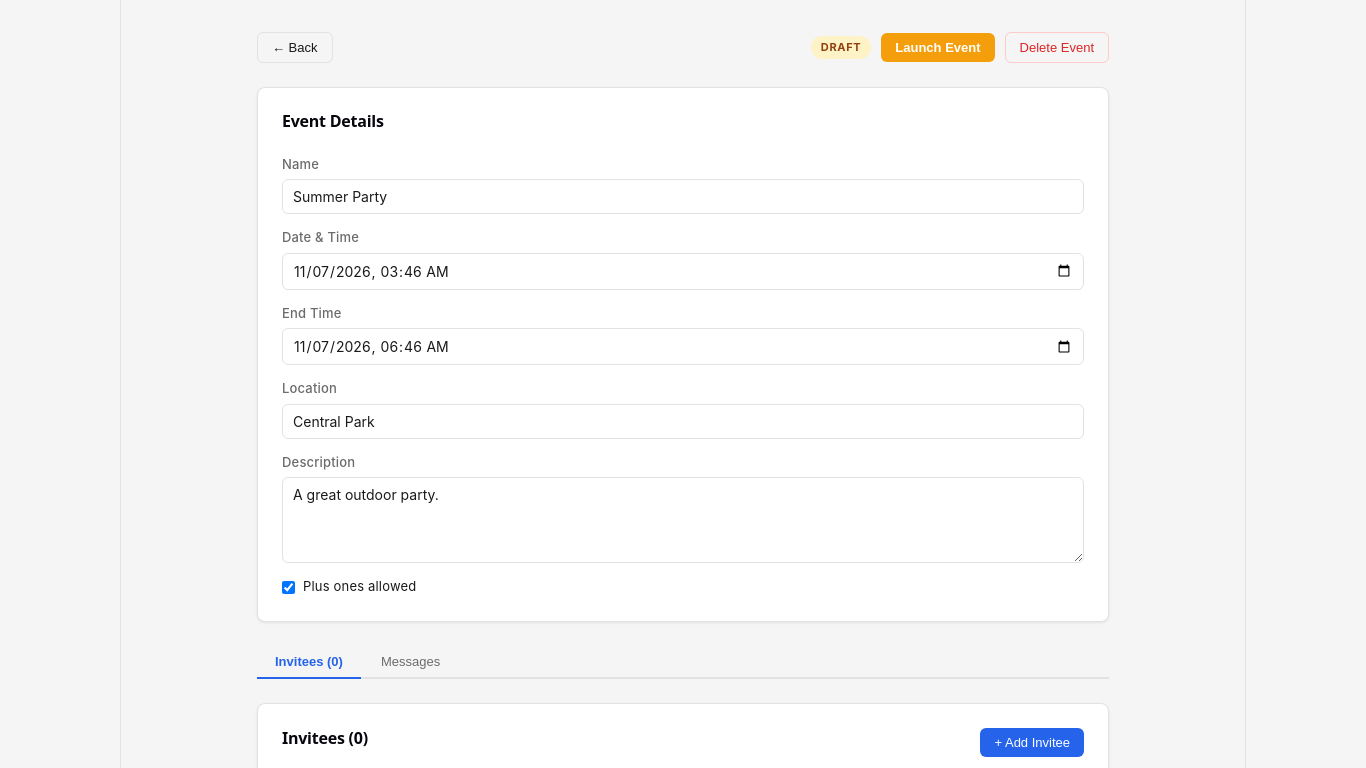
Test: EventDetails › LaunchModal disables "Send Invites" when invitee count is 0
Expected: the field showing "Summer Party" is shown, [282,179,1084,214]
Click the button "Launch Event" at (938, 48), box [881,33,995,62]
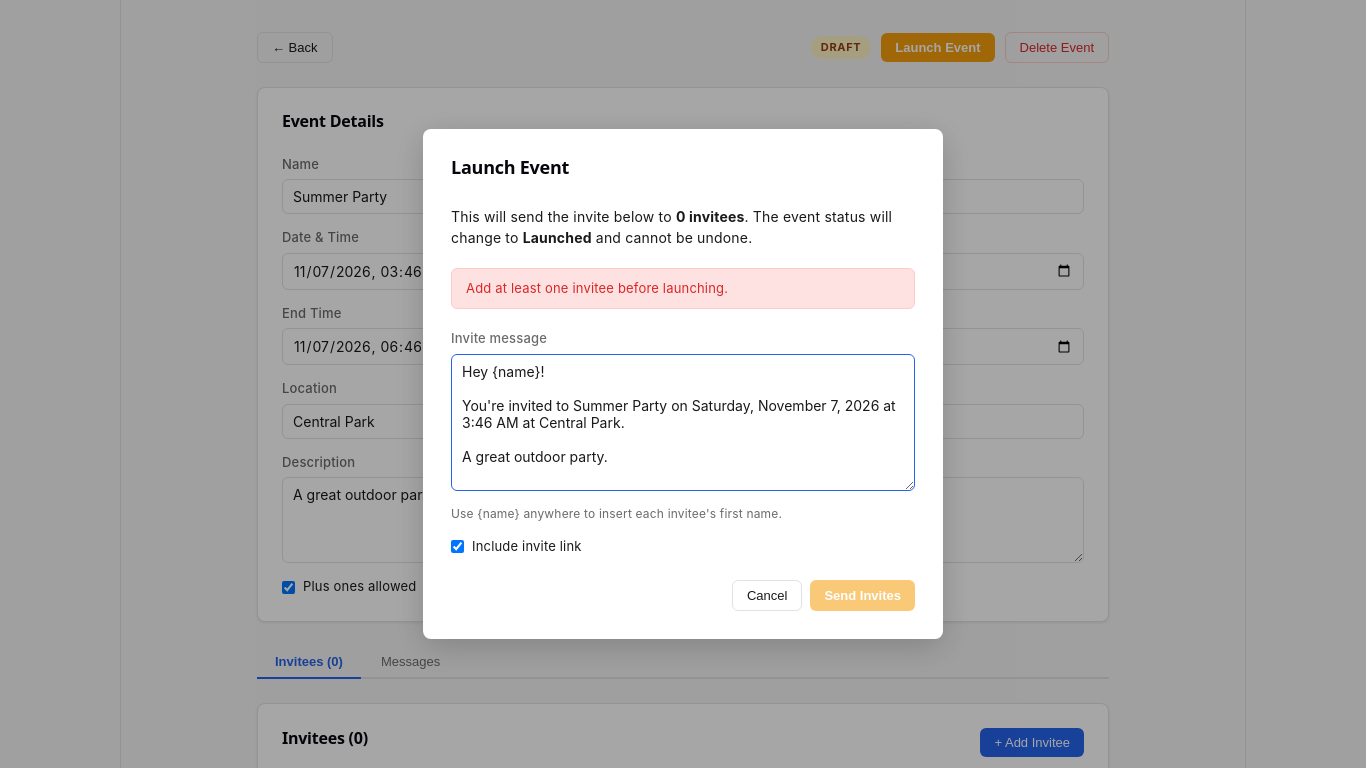
Expected: the button "Send Invites" is disabled, [810,580,915,611]
Expected: the text "Add at least one invitee before launching." is shown, [451,268,915,309]
